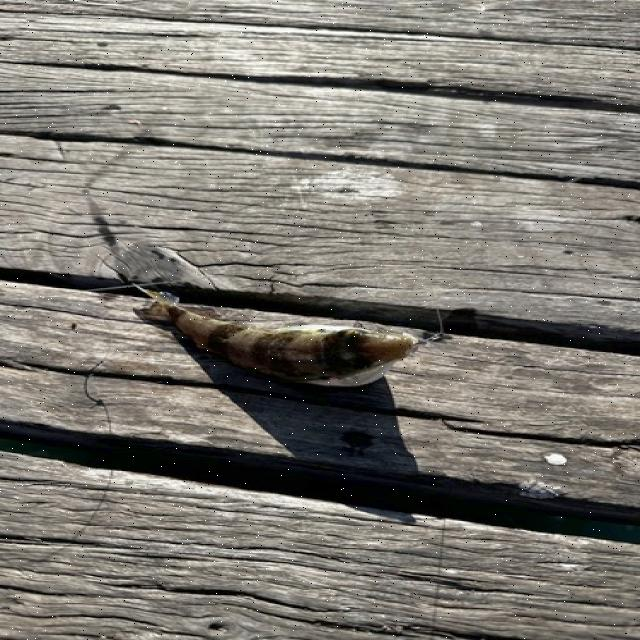Balik: (139, 287, 421, 386)
